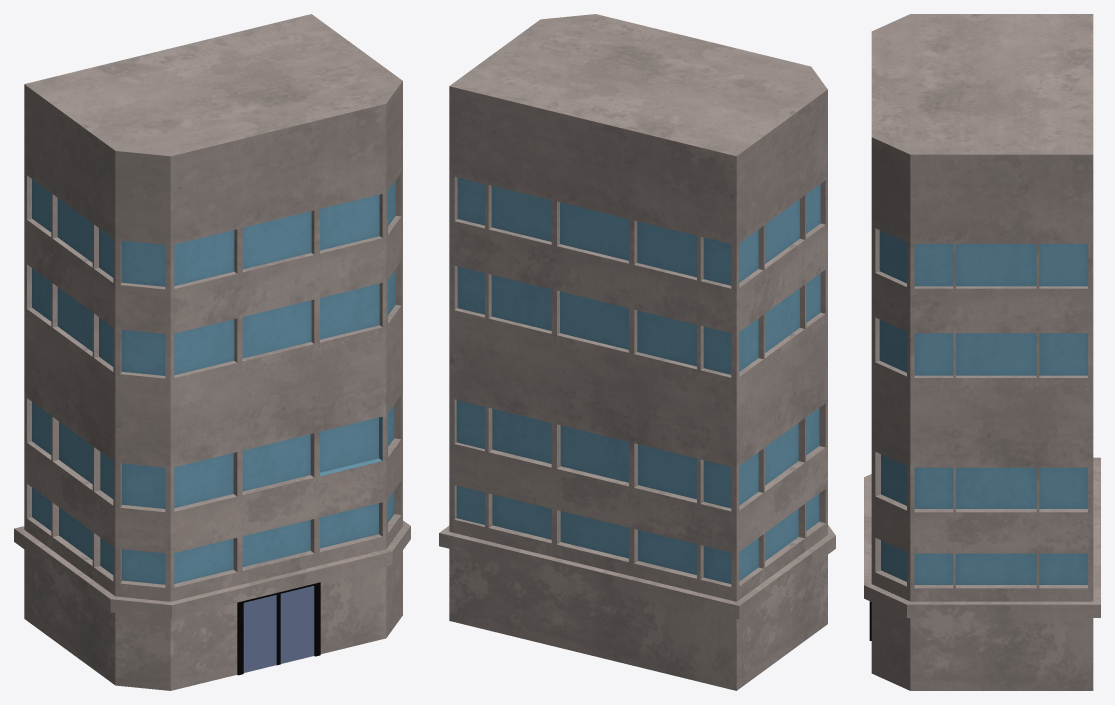
Rendered from Building_05_Texture.fbx.
3 views of the same model, side by side, from view 1: azimuth 30°, elevation 25°; view 2: azimuth 150°, elevation 25°; view 3: azimuth 270°, elevation 25° (orthographic).
Visible parts, largest first — view 1: Buil_05; view 2: Buil_05; view 3: Buil_05.
Boxes of the visible parts, <box> form: Buil_05: <box>14,14,410,690</box>; Buil_05: <box>439,14,835,690</box>; Buil_05: <box>864,14,1100,690</box>.
Bounding box in the file's own units: 1692 × 2880 × 1152.
